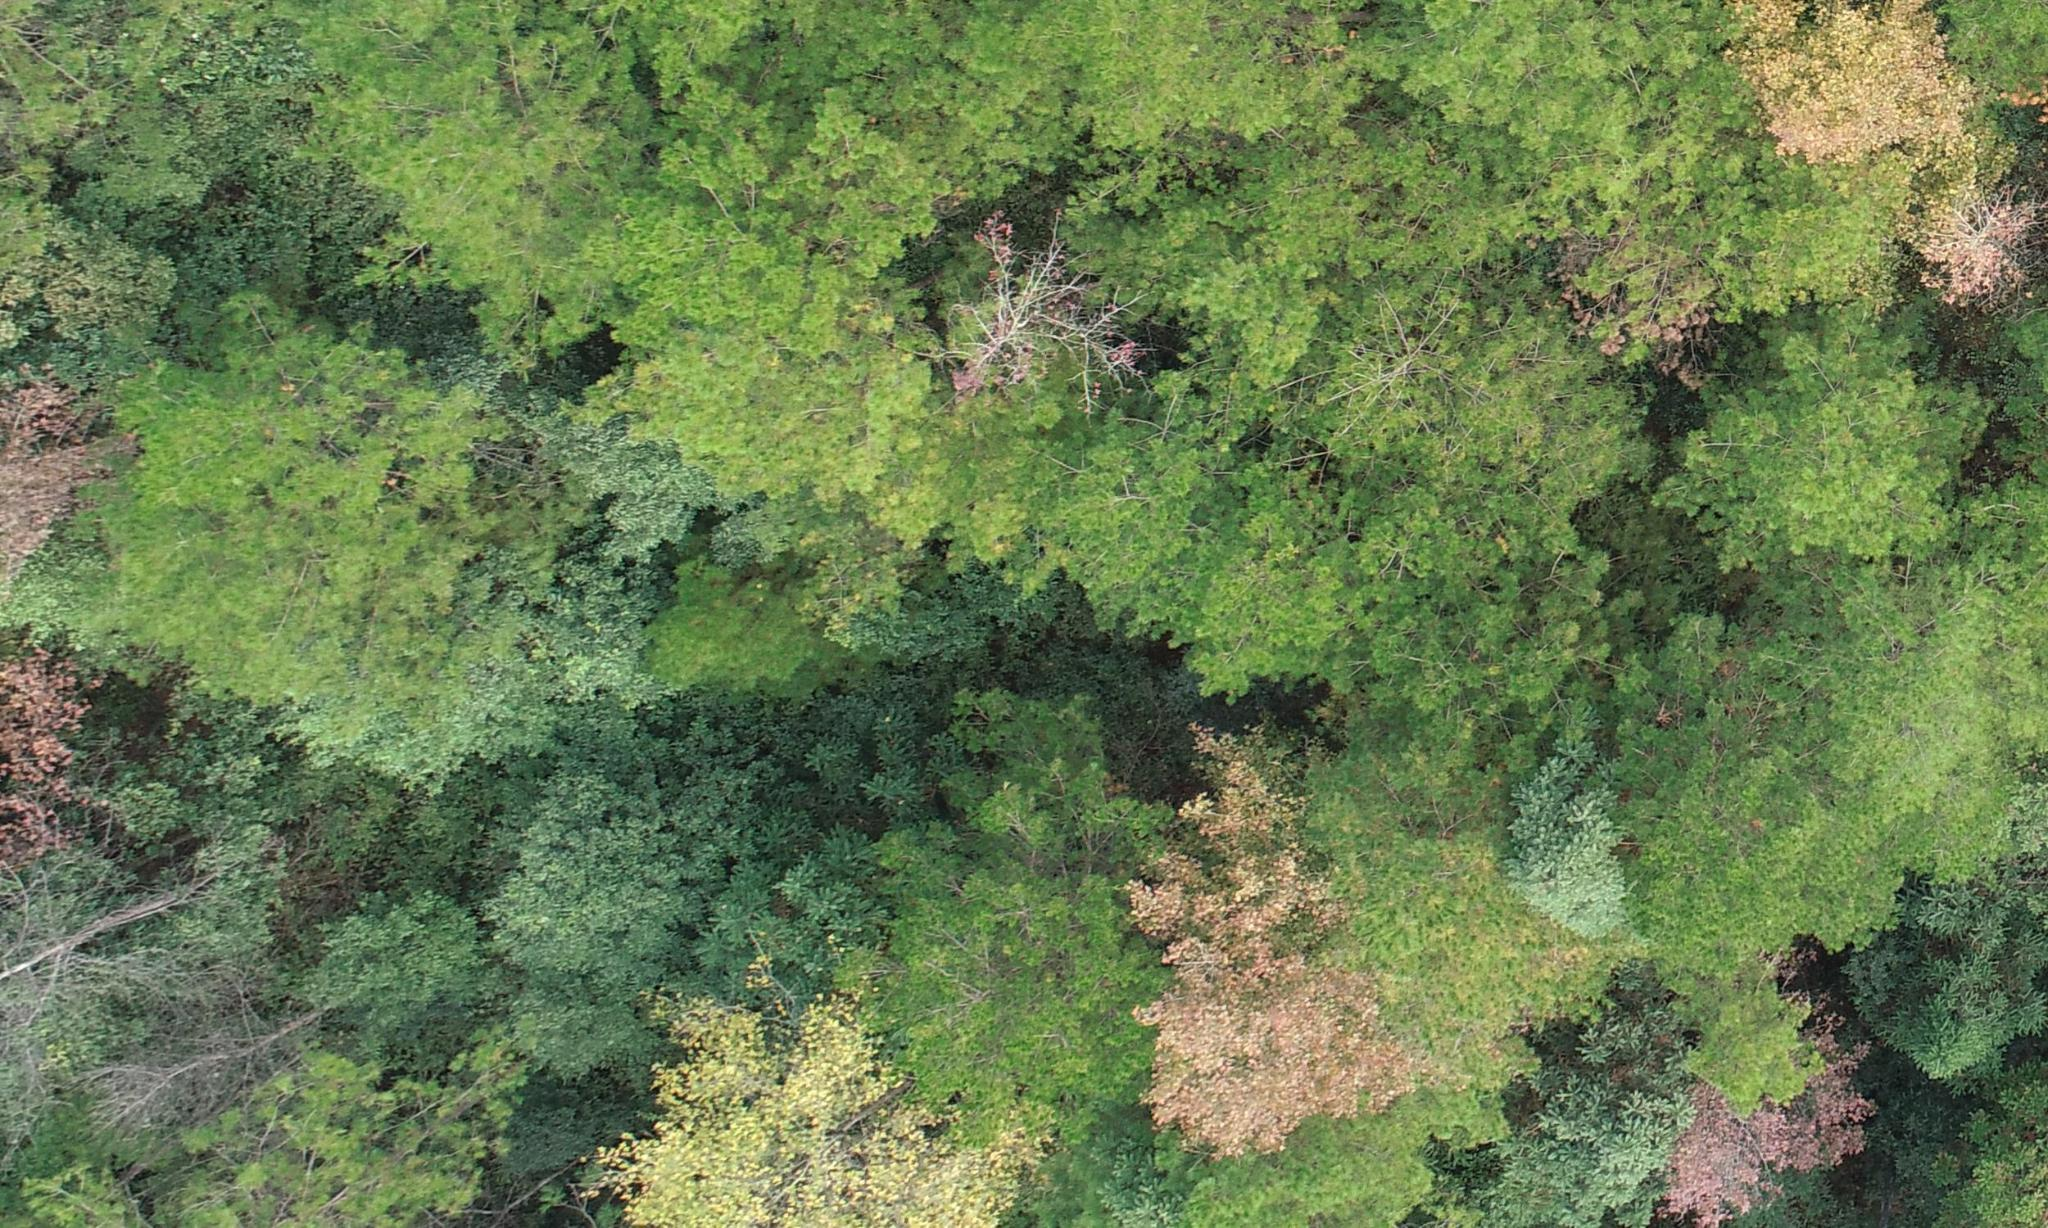dead: (960, 228, 1131, 405)
heavy: (1136, 722, 1446, 1174), (1721, 6, 2048, 326), (1649, 972, 1865, 1228), (9, 352, 113, 861)
